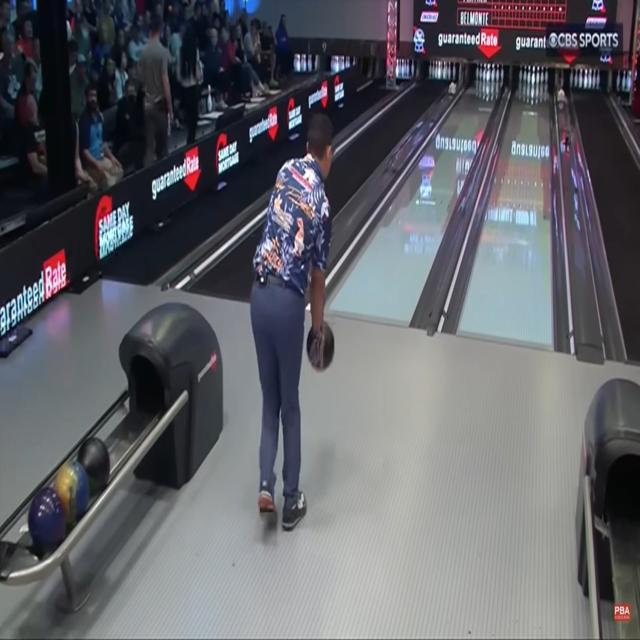alley: (330, 78, 502, 324)
balls: (308, 323, 336, 372)
bottle: (475, 61, 506, 85)
